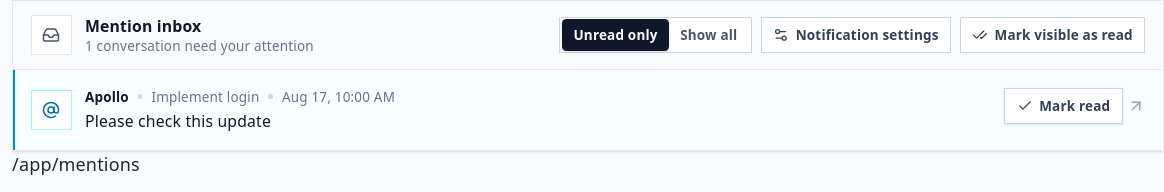
Test case: MentionsPage › loads mentions and toggles unread filter
The image size is (1164, 192).
Expected: the text "Please check this update" is shown, [85,110,271,132]
Click the button "Show all": (709, 35) [669,19,749,50]
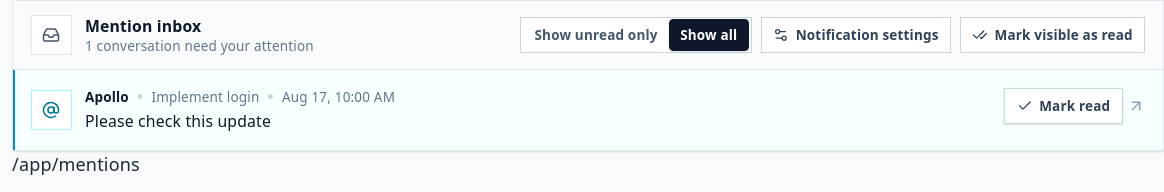
Now the button "Show unread only" is shown, box [523,19,669,50]
